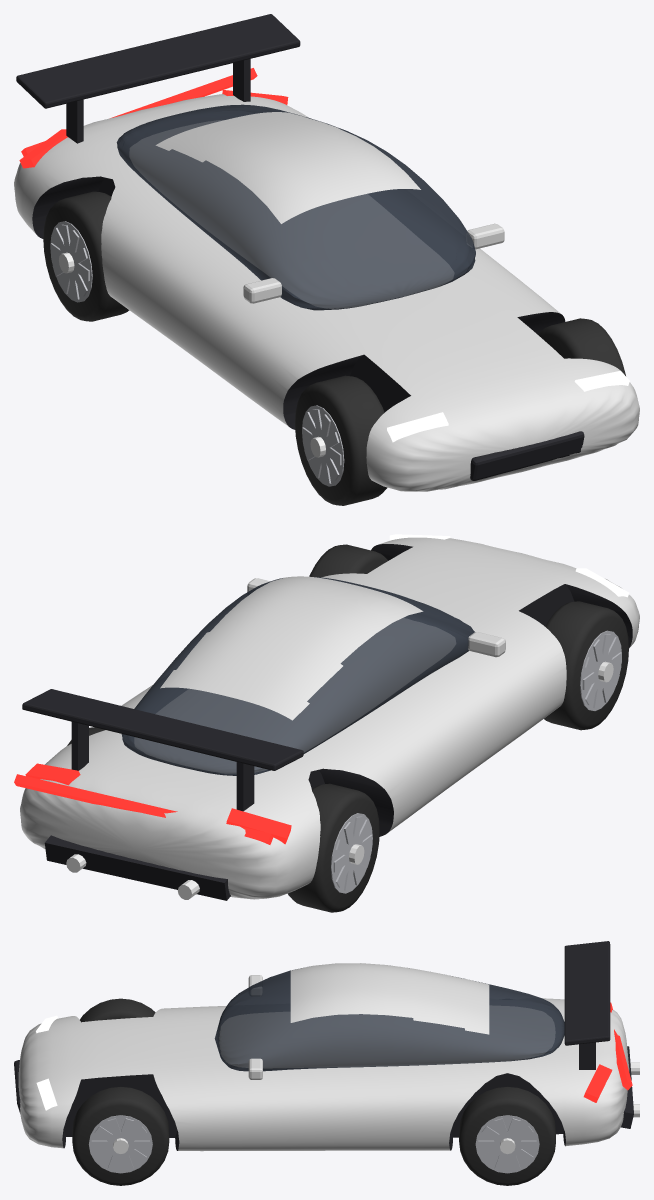
File: rookie.glb
3 views of the same model, one above another, from view 1: azimuth 30°, elevation 25°; view 2: azimuth 150°, elevation 25°; view 3: azimuth 270°, elevation 25° (orthographic). The views are drawn at different scales.
Parts seen in each view (by area): view 1: Car, Wheel_FL, Wheel_RL, Wheel_FR, Rim, Rim.002; view 2: Car, Wheel_FL, Wheel_RL, Wheel_FR, Rim, Rim.002; view 3: Car, Wheel_FR, Wheel_RR, Rim.003, Rim.001, Wheel_FL, Spoke.015, Spoke.005, Spoke.008, Spoke.016, Spoke.006, Spoke.018 (+3 smaller).
Part boxes in pixels (x1,y1,x2,y2): Car: (14, 14, 639, 491); Wheel_FL: (295, 375, 387, 505); Wheel_RL: (43, 191, 129, 321); Wheel_FR: (538, 318, 625, 375); Rim: (302, 405, 344, 486); Rim.002: (50, 221, 92, 302); Car: (14, 534, 639, 900); Wheel_FL: (544, 601, 628, 730); Wheel_RL: (287, 783, 379, 912); Wheel_FR: (309, 544, 388, 577); Rim: (580, 630, 621, 710); Rim.002: (331, 813, 372, 893); Car: (14, 941, 639, 1151); Wheel_FR: (72, 1086, 169, 1185); Wheel_RR: (459, 1086, 555, 1185); Rim.003: (475, 1115, 539, 1173); Rim.001: (88, 1115, 152, 1173); Wheel_FL: (80, 998, 155, 1022); Spoke.015: (478, 1140, 536, 1148); Spoke.005: (91, 1140, 149, 1148); Spoke.008: (94, 1126, 146, 1163); Spoke.016: (494, 1118, 520, 1171); Spoke.006: (107, 1118, 133, 1171); Spoke.018: (481, 1126, 533, 1163).
Size of the model in its own units: 1.82 by 1.21 by 4.38.
